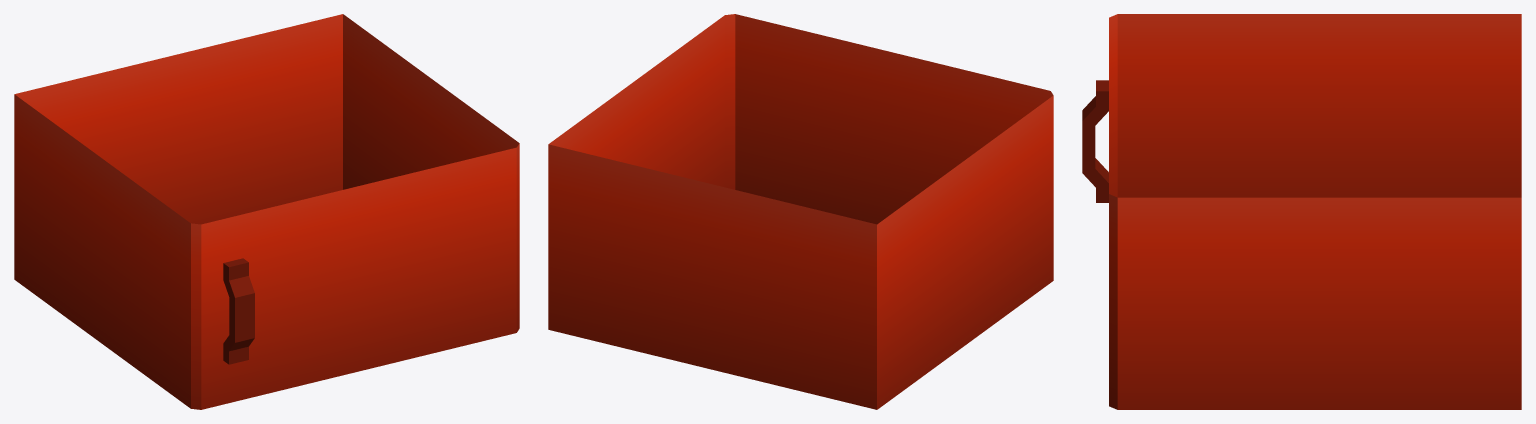
The model's file is Counter_01_v04_C04.fbx.
The picture shows the model from 3 angles, left to right: view 1: azimuth 30°, elevation 25°; view 2: azimuth 150°, elevation 25°; view 3: azimuth 270°, elevation 25°; orthographic projection. The views are drawn at different scales.
Visible parts, largest first — view 1: Counter_01_v04_C04; view 2: Counter_01_v04_C04; view 3: Counter_01_v04_C04.
Part boxes in pixels (x1,y1,x2,y2): Counter_01_v04_C04: [14, 14, 519, 409]; Counter_01_v04_C04: [548, 14, 1053, 409]; Counter_01_v04_C04: [1082, 14, 1521, 409].
Size of the model in its own units: 100 by 53.91 by 101.
